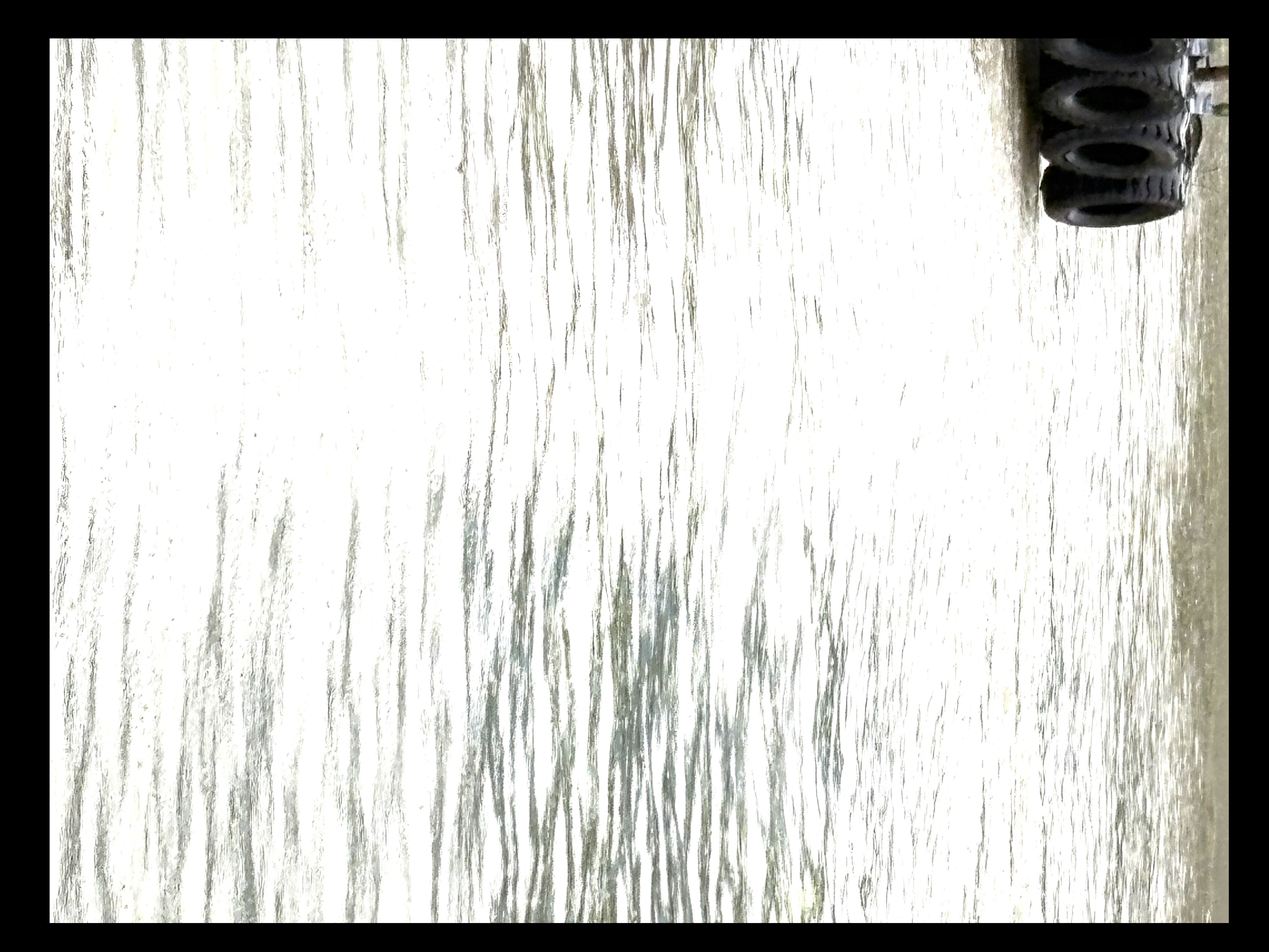Plastic wastes: (966, 596, 991, 678)
